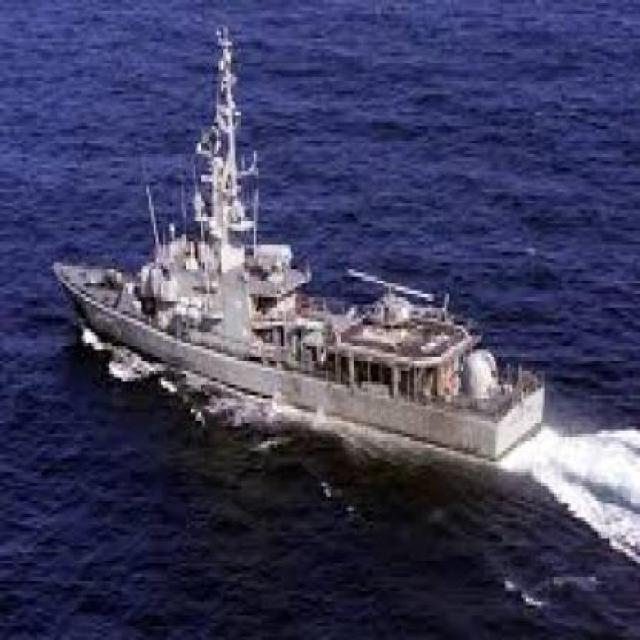warship2: (31, 26, 571, 498)
